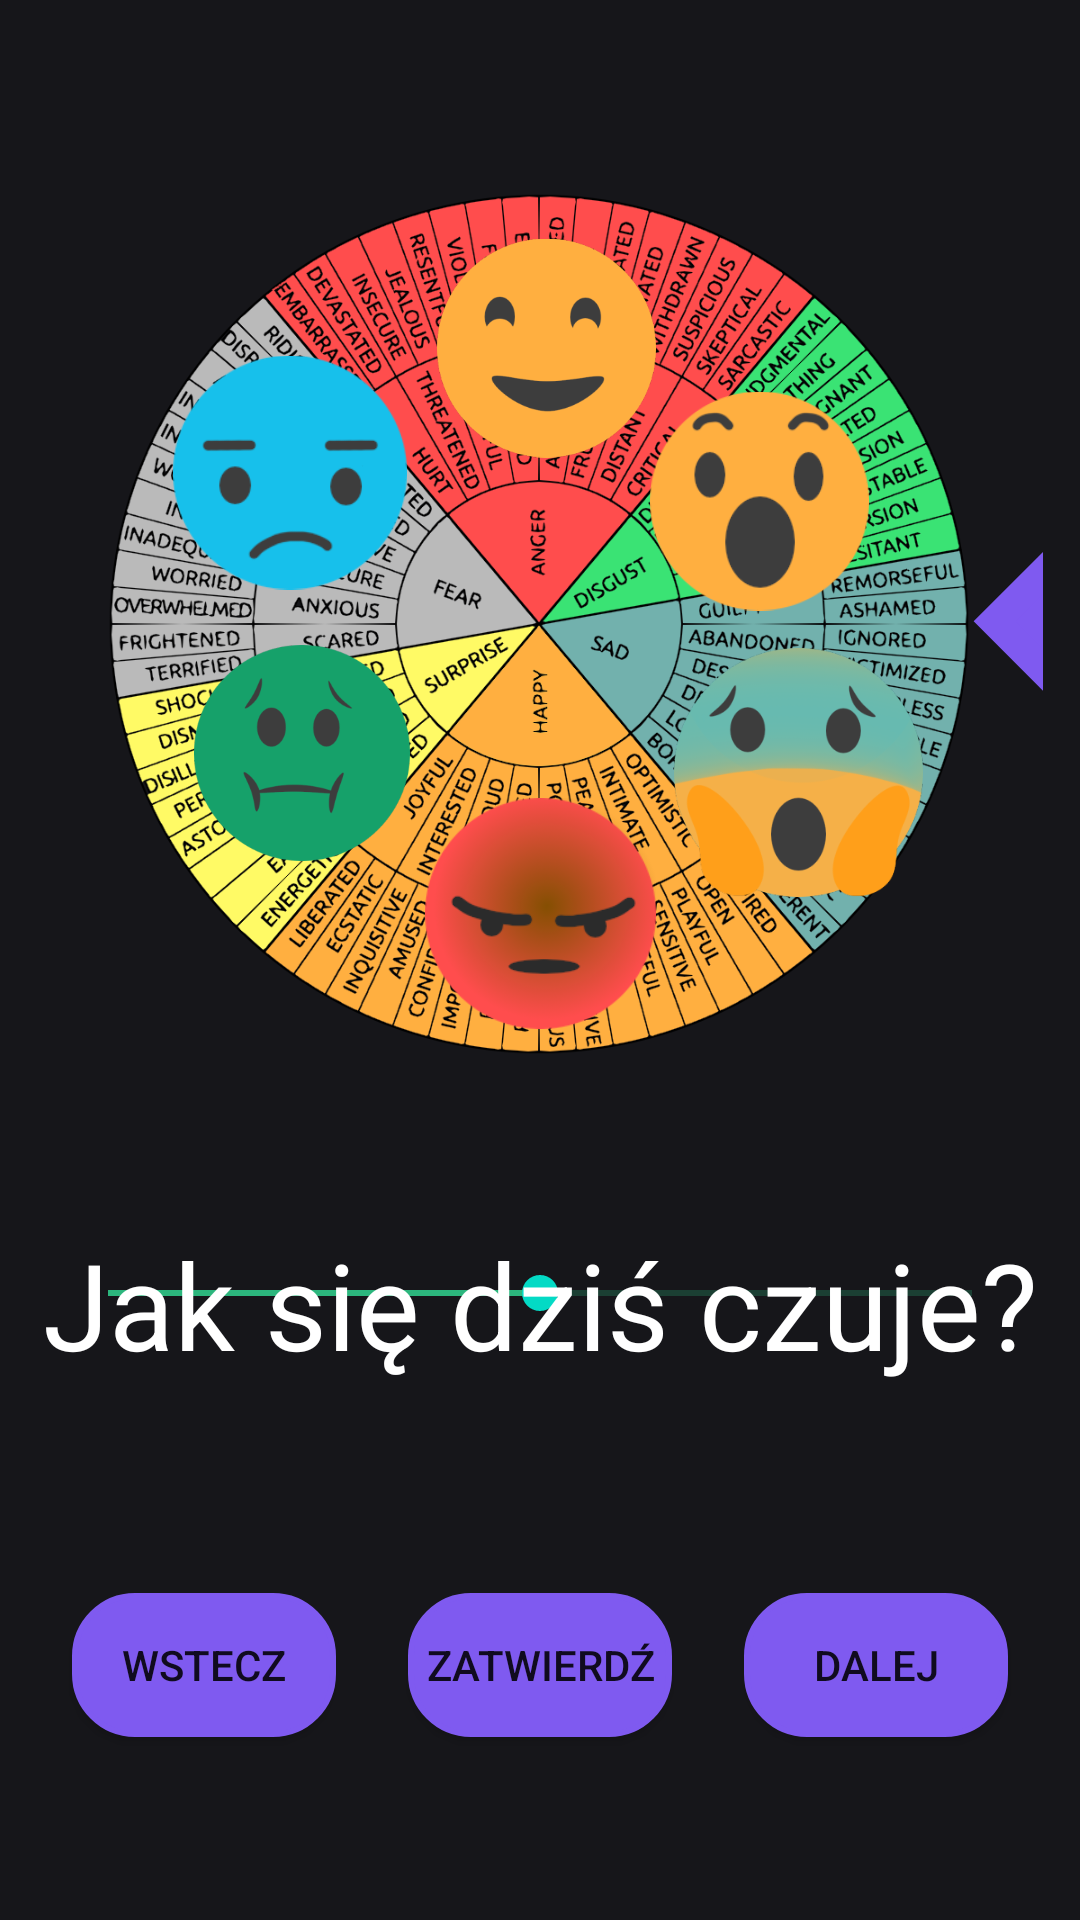

Screen size 1080x1920. Icon name, then its center in pixels as point (x, y):
angry face: point (540, 913)
disgust: point (302, 753)
dissapointed: point (290, 472)
fear: point (798, 772)
happy face: point (546, 348)
surprised face: point (759, 501)
